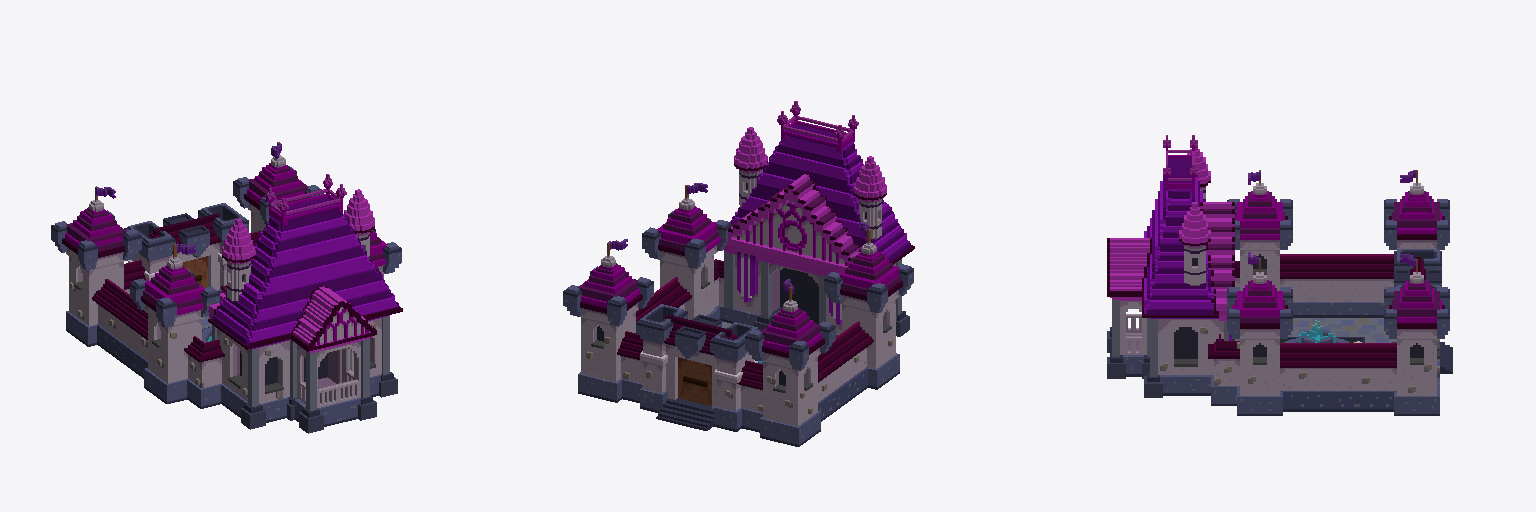
3 renders of one model, left to right at view 1: azimuth 30°, elevation 25°; view 2: azimuth 150°, elevation 25°; view 3: azimuth 270°, elevation 25°, orthographic.
Parts seen in each view (by area): view 1: object 1; view 2: object 1; view 3: object 1.
Boxes of the visible parts, x1=… form: object 1: x1=51, y1=142, x2=402, y2=433; object 1: x1=563, y1=101, x2=914, y2=446; object 1: x1=1107, y1=135, x2=1452, y2=415.
Size of the model in its own units: 10.4 by 8.8 by 13.
1 materials, 1 textured.